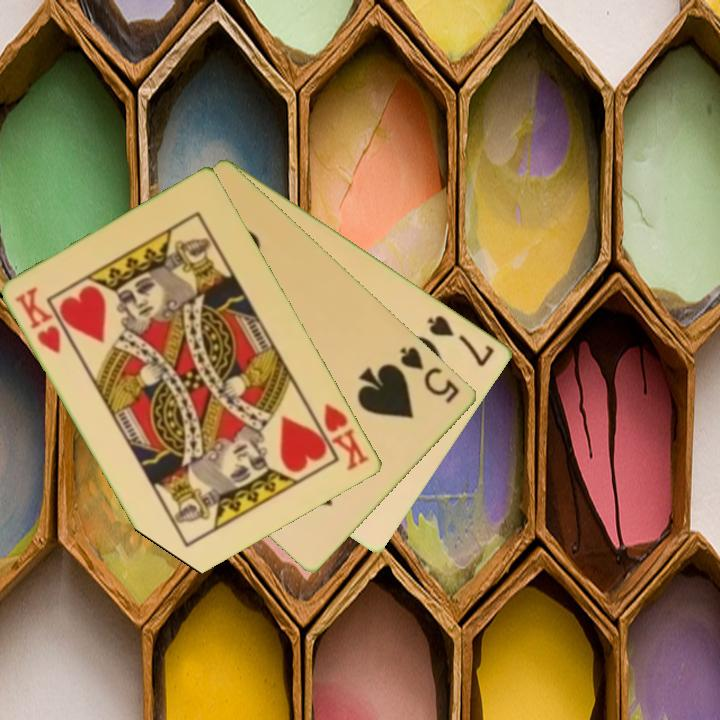5s: (396, 343, 463, 407)
7s: (424, 311, 498, 370)
Kh: (307, 399, 372, 474), (12, 283, 65, 357)
